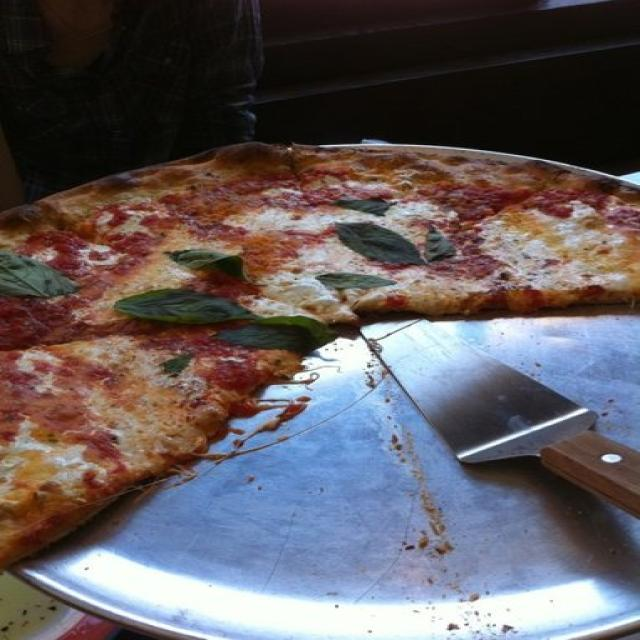Basil: (115, 291, 254, 327), (332, 223, 434, 267), (168, 249, 265, 293), (0, 248, 82, 298), (220, 318, 324, 343), (334, 196, 401, 218), (421, 230, 458, 262), (320, 276, 400, 288), (163, 353, 196, 381)
Pizza: (0, 147, 640, 564)
